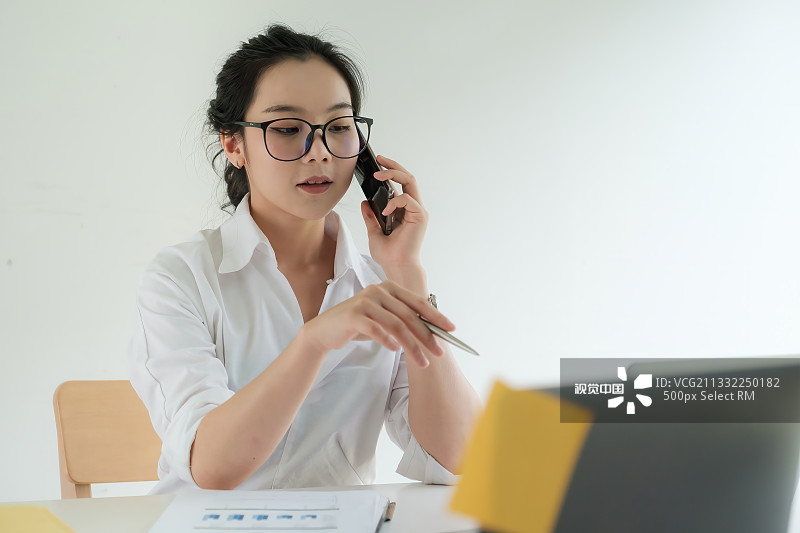calling: (337, 138, 455, 278)
no-phone: (307, 271, 491, 382)
